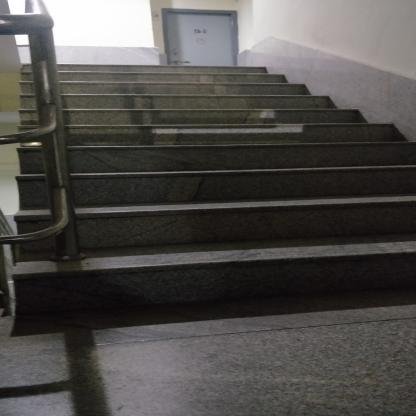stairs: (82, 118, 385, 316)
